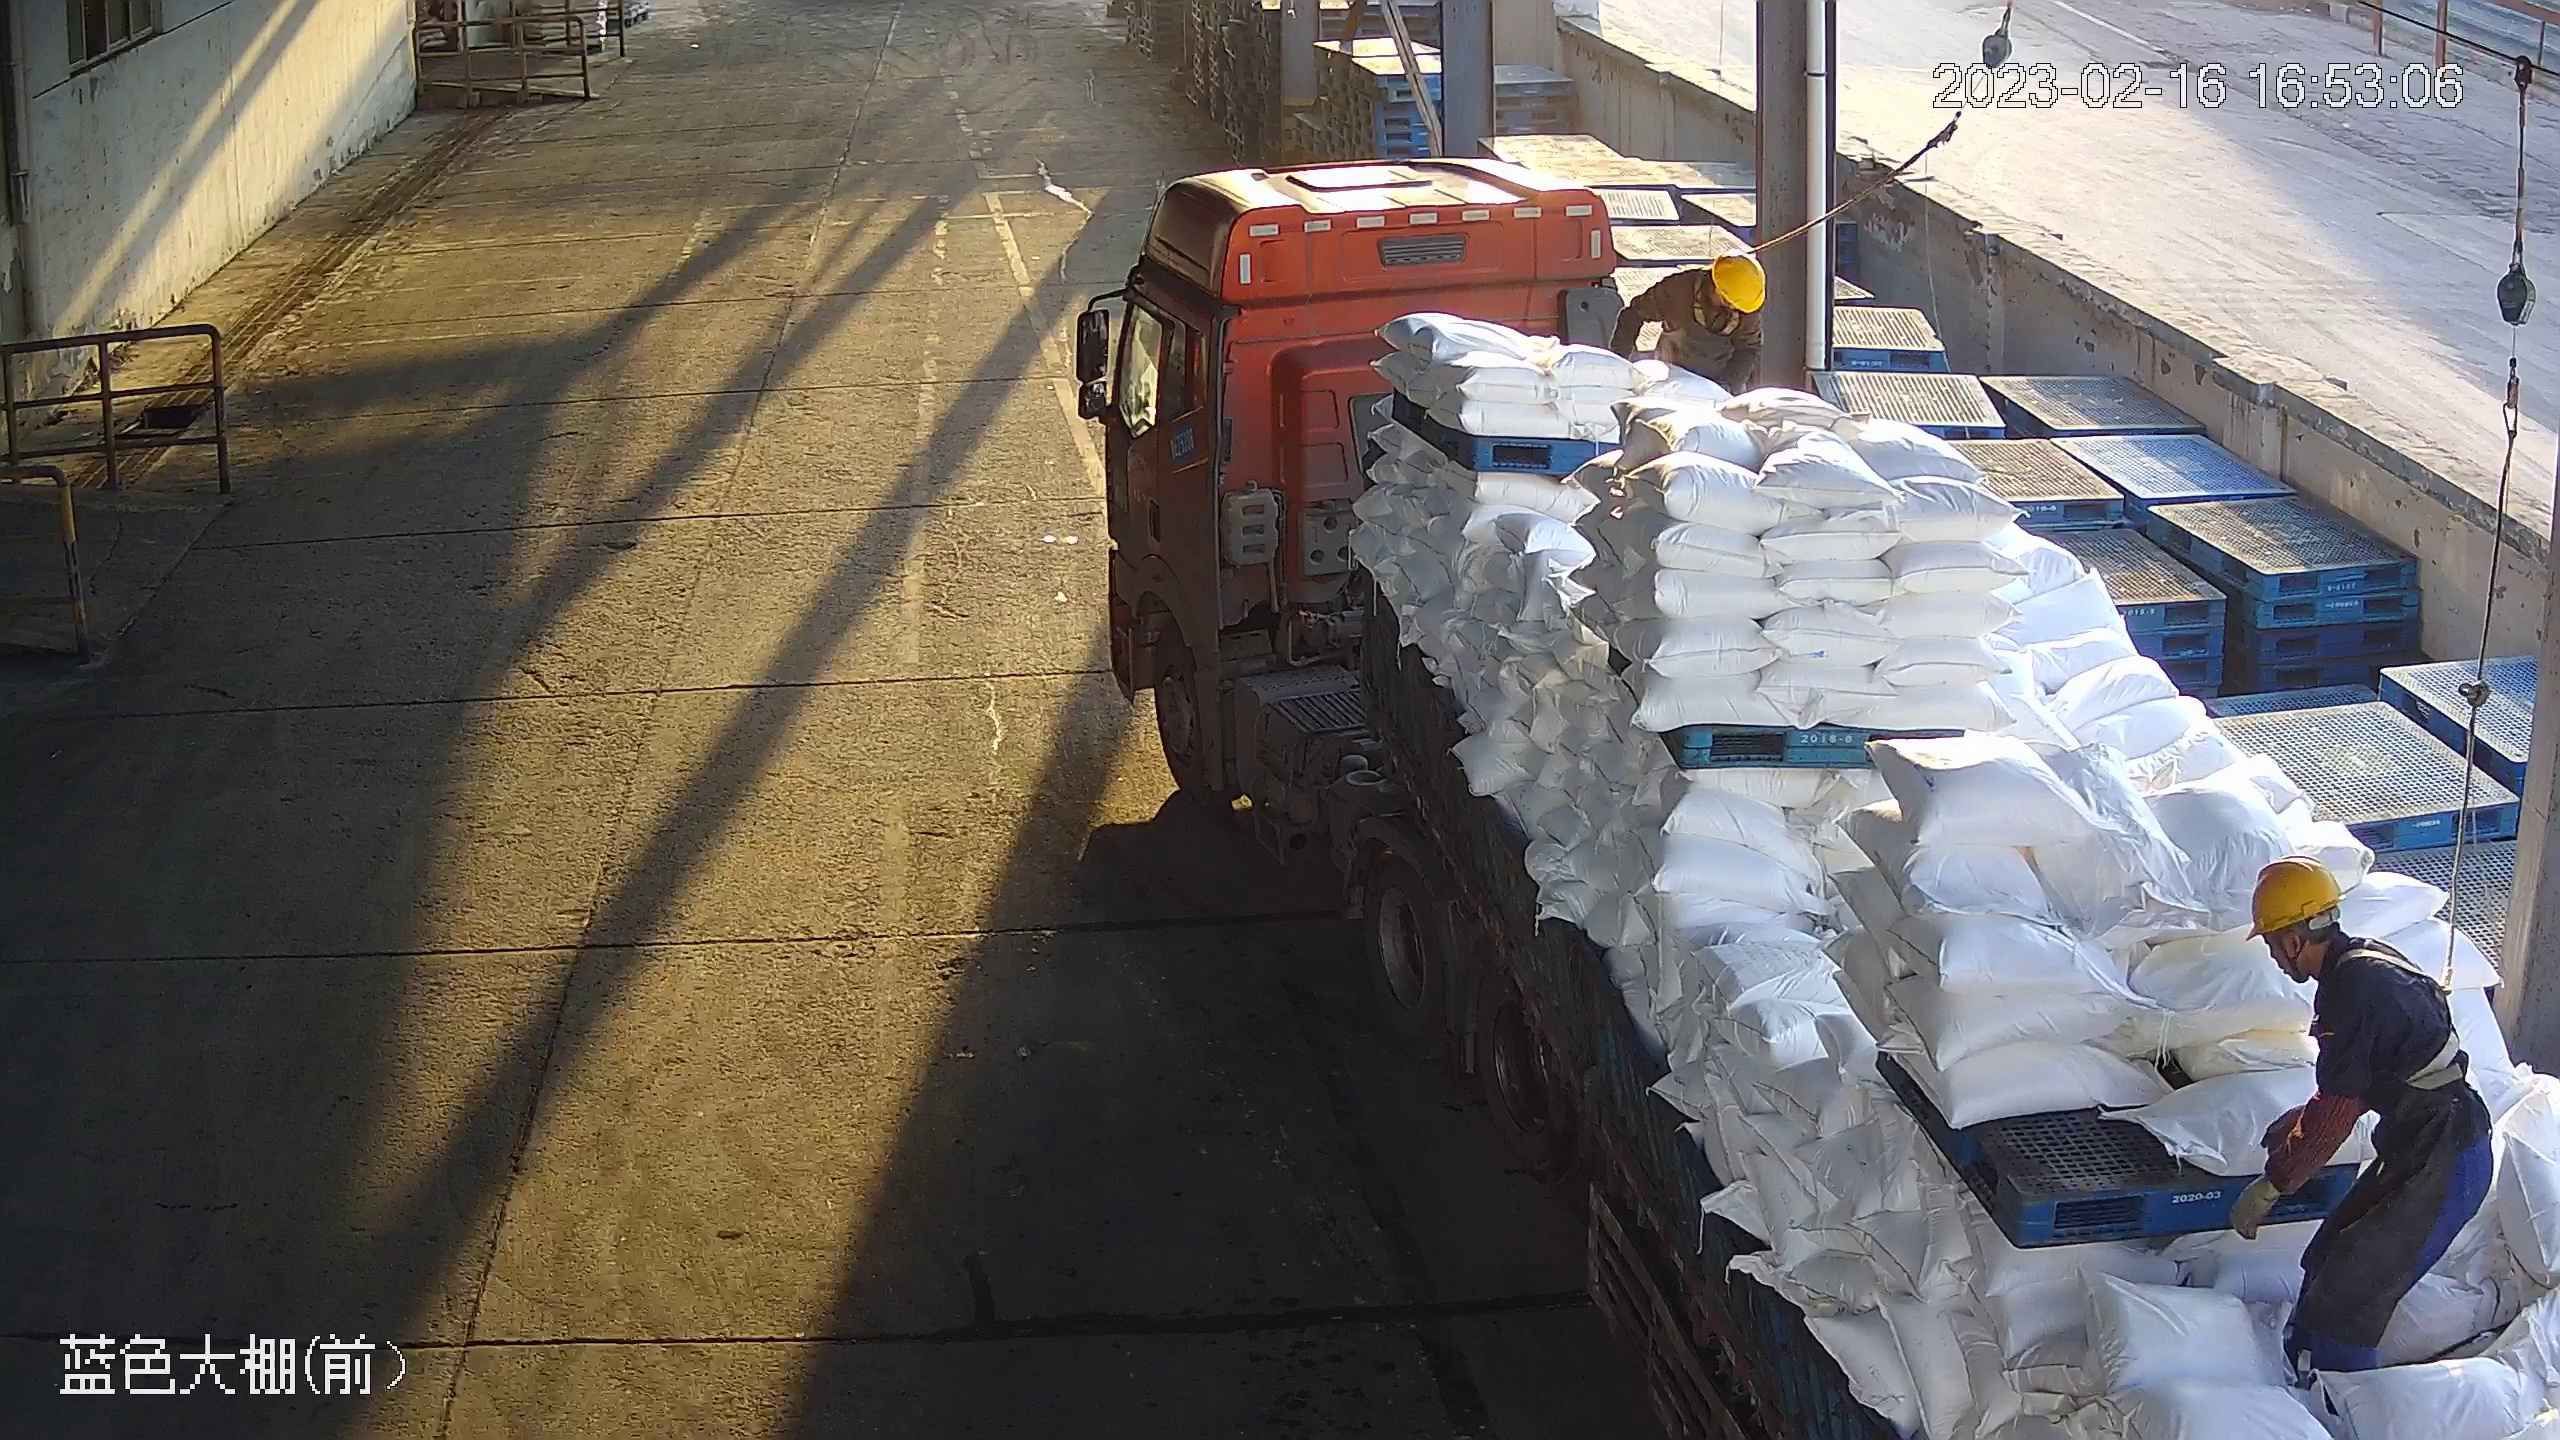belt: (2338, 942, 2459, 1082), (1692, 271, 1759, 336)
head: (2240, 862, 2449, 1029), (1655, 242, 1770, 338)
helmet: (2242, 851, 2364, 929), (1705, 244, 1779, 310)
people: (2229, 851, 2496, 1392)
truck: (1051, 168, 2560, 1440)
